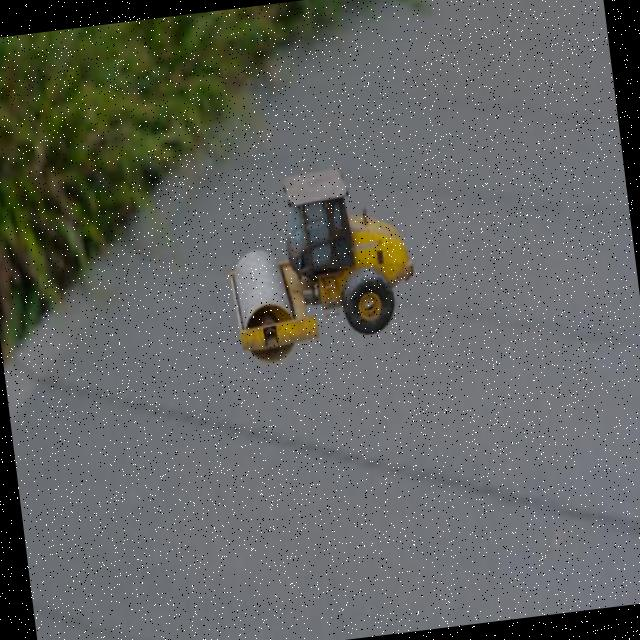Roller: (216, 158, 422, 366)
